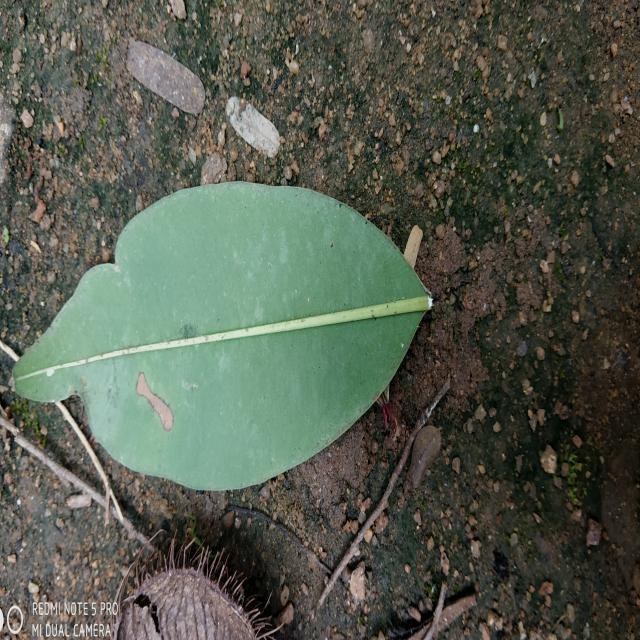leaf: (10, 179, 434, 491)
